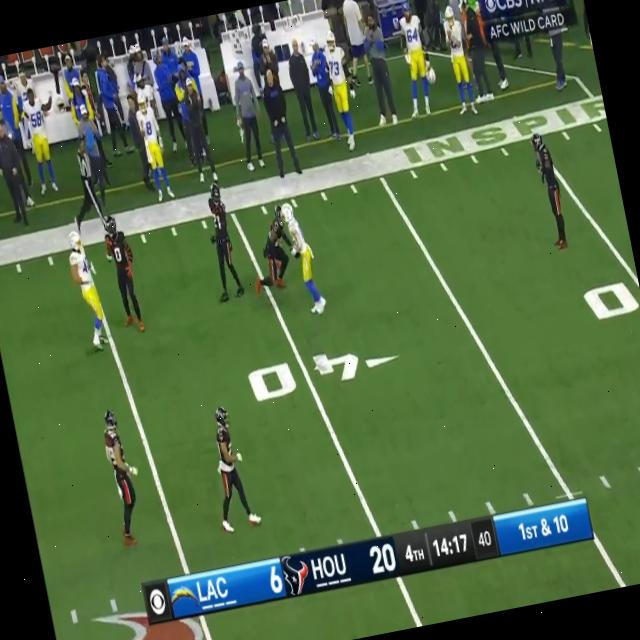Player: (64, 217, 124, 360), (96, 406, 146, 549), (100, 204, 152, 340), (204, 404, 256, 538), (282, 197, 335, 317), (202, 180, 248, 304), (528, 130, 574, 248), (253, 202, 301, 293)
Referee: (70, 138, 104, 226)
